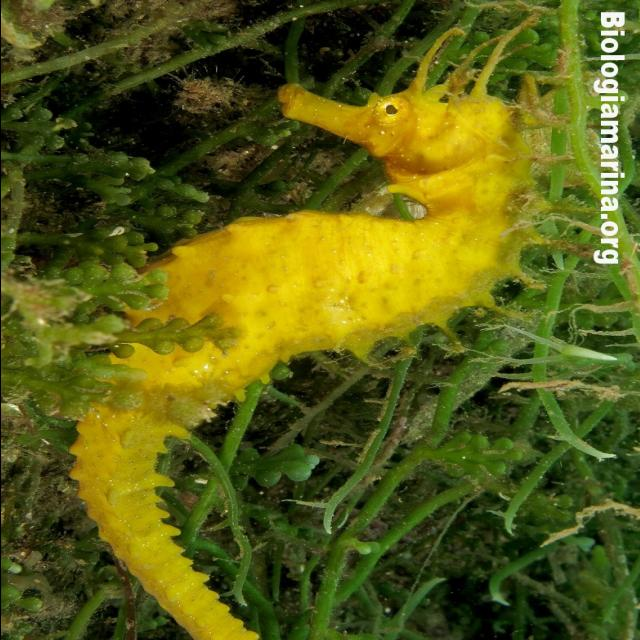Guttu: (272, 60, 526, 214)
